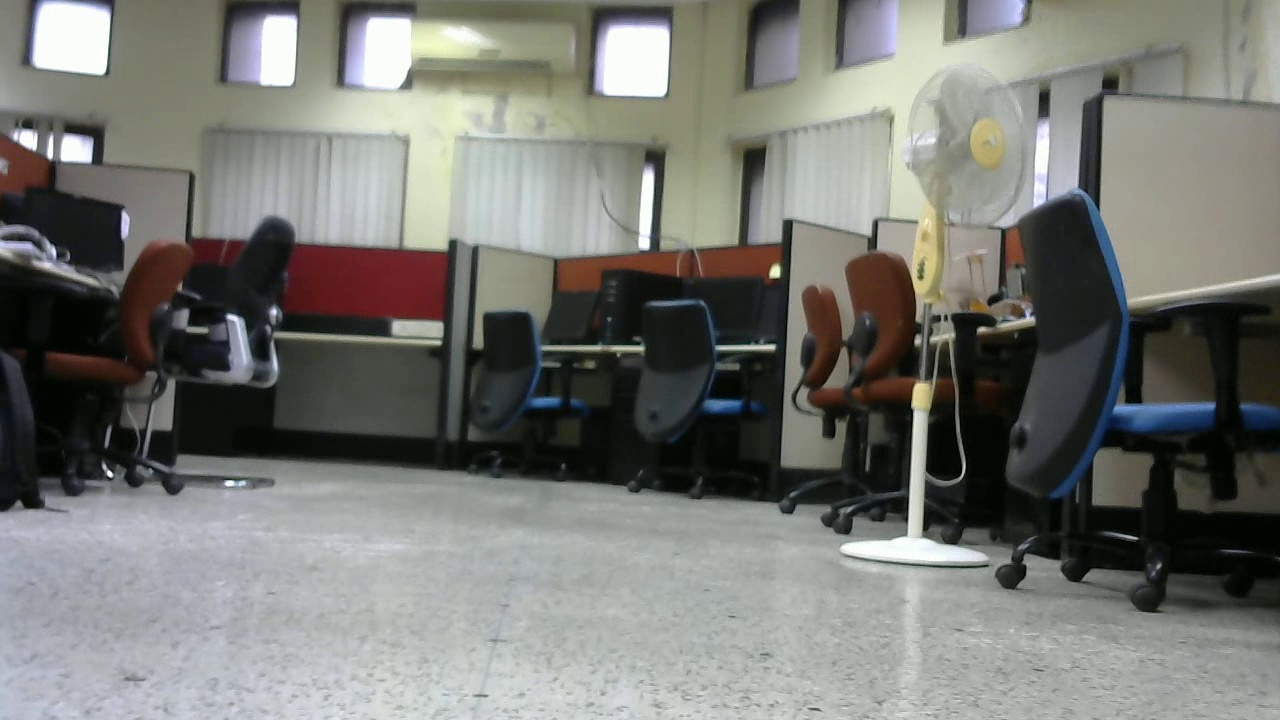chair: (961, 188, 1279, 628), (832, 244, 988, 534), (49, 235, 207, 471), (189, 210, 306, 495), (461, 309, 613, 487), (635, 291, 763, 501), (782, 267, 852, 521)
